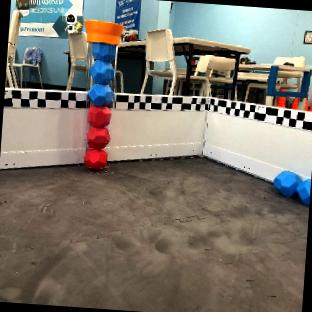V5_BLUE: (87, 34, 117, 104), (273, 171, 310, 203)
V5_RED: (87, 104, 110, 147), (84, 147, 107, 168), (291, 97, 297, 107)
